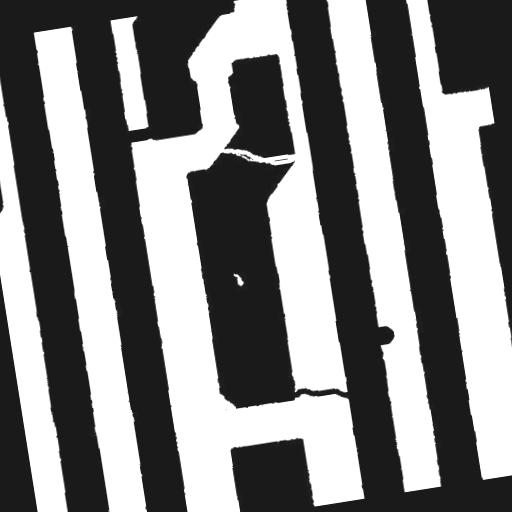mousebite: (208, 383, 244, 422)
open: (205, 126, 305, 182)
pin-hole: (224, 263, 252, 294)
short: (277, 370, 366, 420), (111, 116, 164, 152)
spur: (360, 316, 404, 354)
